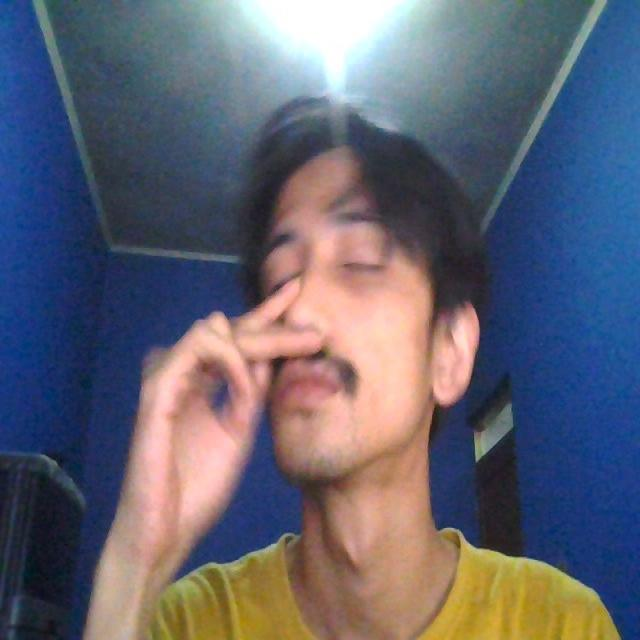movement: (102, 70, 520, 517)
